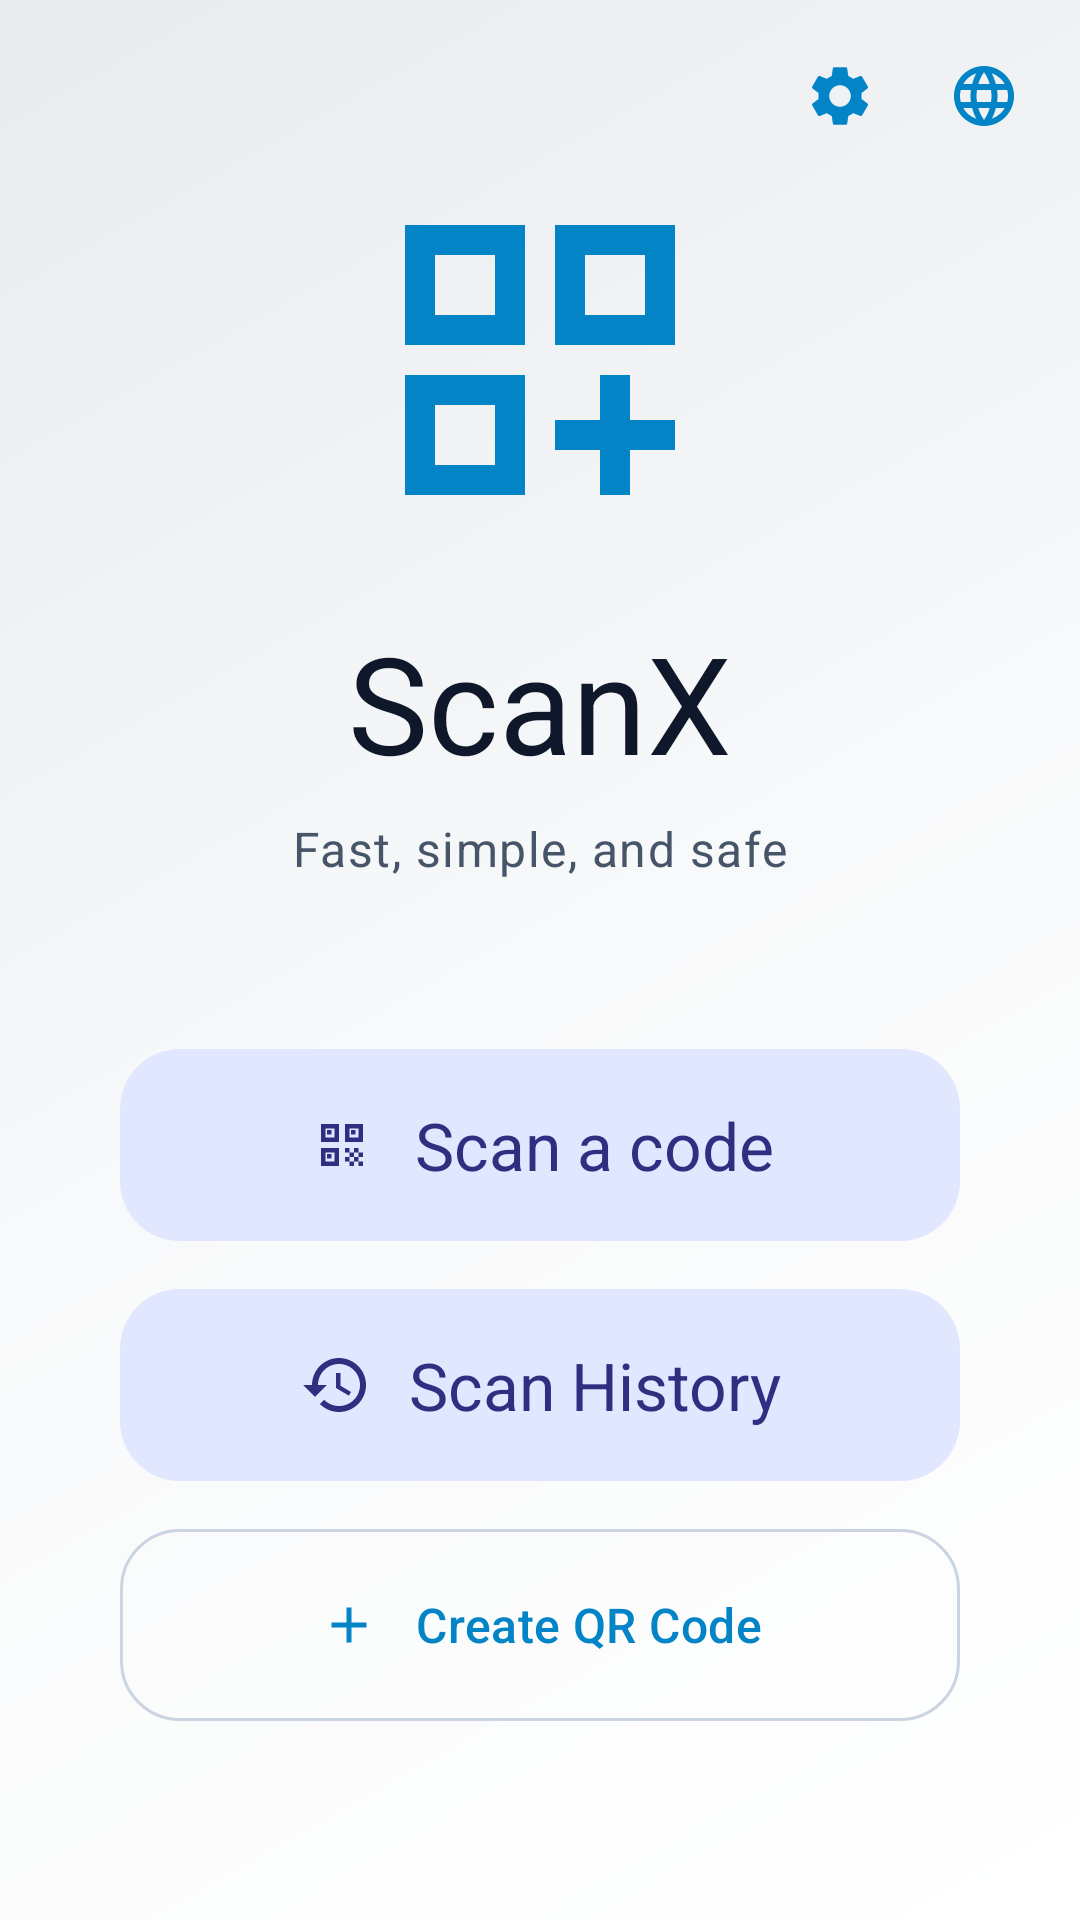

Icons on this 1080*1920 Android screen, each with the point to tap as [x,y]:
Change Language: [984,96]
Settings: [840,96]
